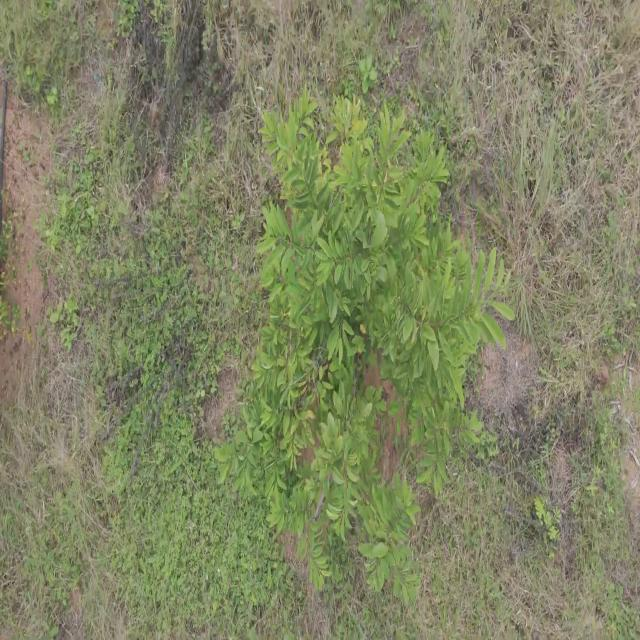notMangoTree: (215, 88, 516, 615)
